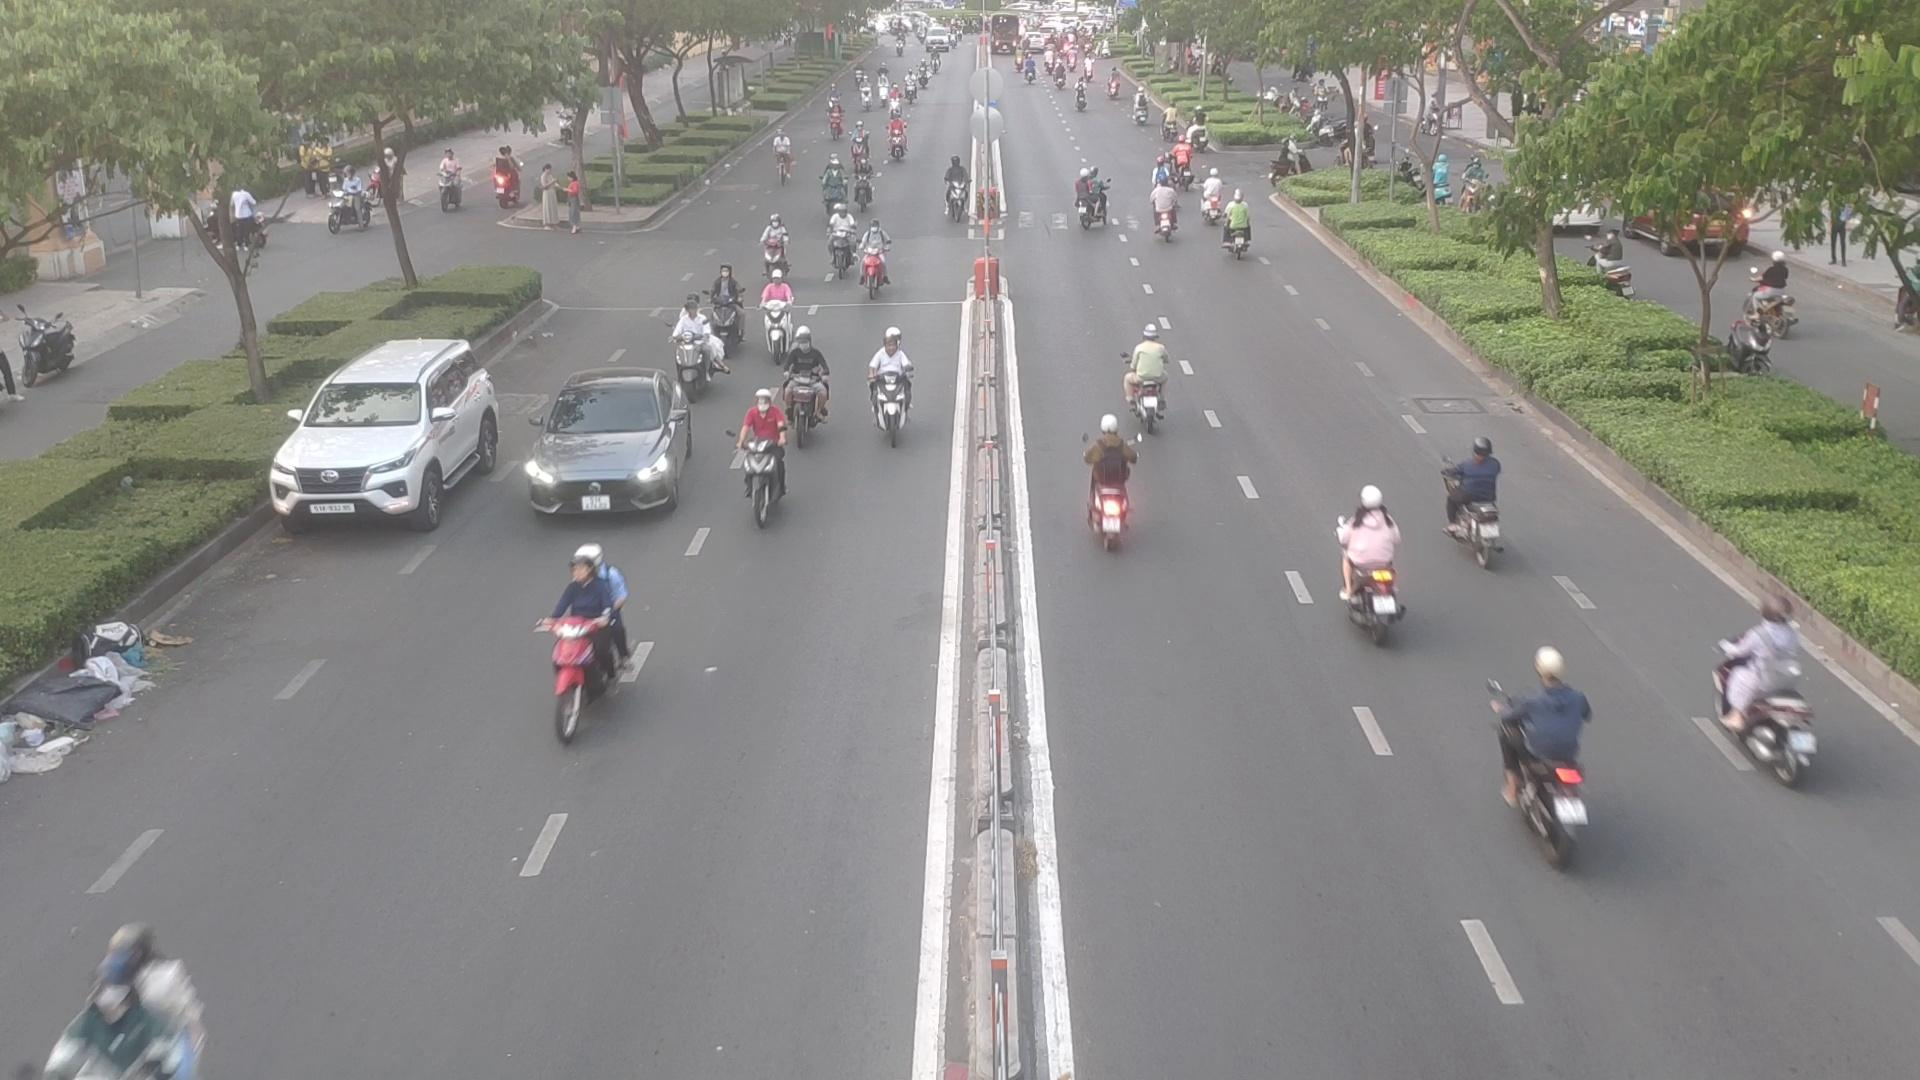car: (270, 339, 516, 531), (530, 376, 702, 520)
motorbike: (33, 923, 218, 1076), (522, 550, 647, 729), (1706, 607, 1822, 786), (1487, 662, 1594, 855), (1332, 496, 1408, 634), (1443, 439, 1515, 562), (1083, 411, 1135, 547), (737, 390, 786, 526), (1122, 328, 1184, 429), (861, 335, 918, 436), (781, 327, 835, 425), (665, 313, 720, 392), (757, 276, 804, 353), (702, 268, 749, 343), (853, 229, 897, 305), (1065, 167, 1112, 232), (822, 202, 860, 269), (1222, 196, 1261, 260), (942, 157, 976, 223), (845, 162, 884, 212), (758, 215, 791, 273), (1147, 175, 1178, 237), (822, 152, 848, 214), (1174, 135, 1197, 196), (1199, 162, 1221, 222), (884, 117, 913, 161), (851, 127, 870, 164)
